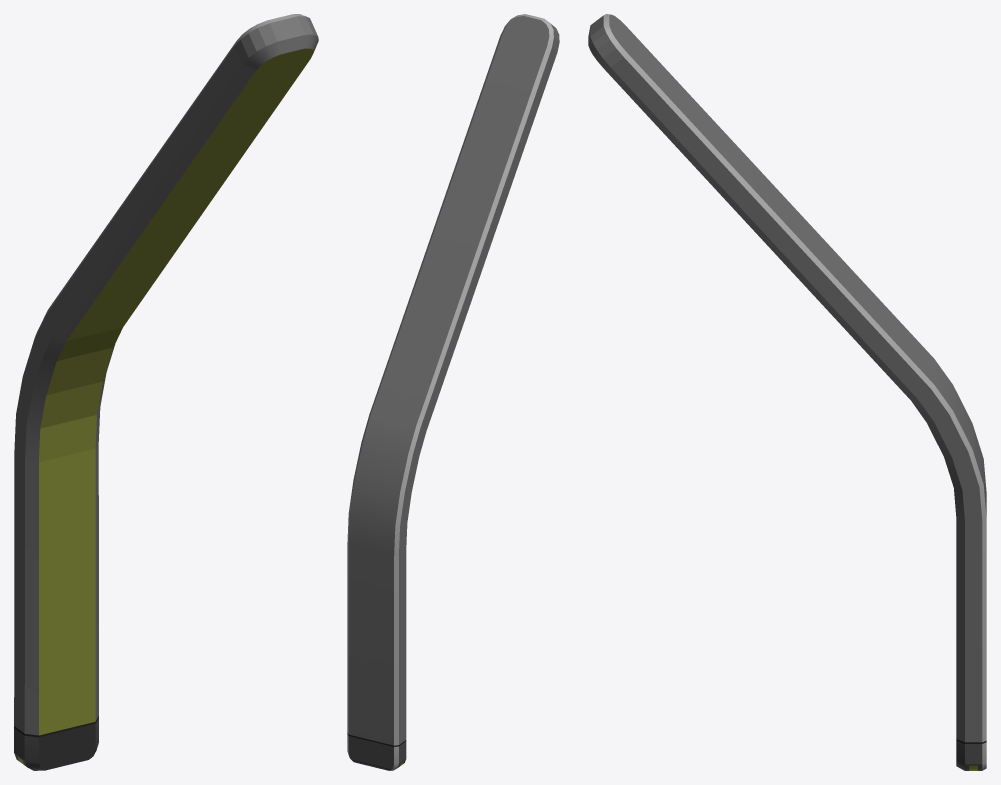
File: W_O_Streetlamp_002_L1.fbx
The picture shows the model from 3 angles, left to right: view 1: azimuth 30°, elevation 25°; view 2: azimuth 150°, elevation 25°; view 3: azimuth 270°, elevation 25°; orthographic projection. The views are drawn at different scales.
Parts seen in each view (by area): view 1: W_O_Streetlamp_002_L1; view 2: W_O_Streetlamp_002_L1; view 3: W_O_Streetlamp_002_L1.
Part boxes in pixels (x1,y1,x2,y2): W_O_Streetlamp_002_L1: [14, 14, 318, 770]; W_O_Streetlamp_002_L1: [347, 14, 559, 770]; W_O_Streetlamp_002_L1: [588, 14, 986, 770].
Bounding box in the file's own units: 0.1609 × 0.9169 × 1.88.
